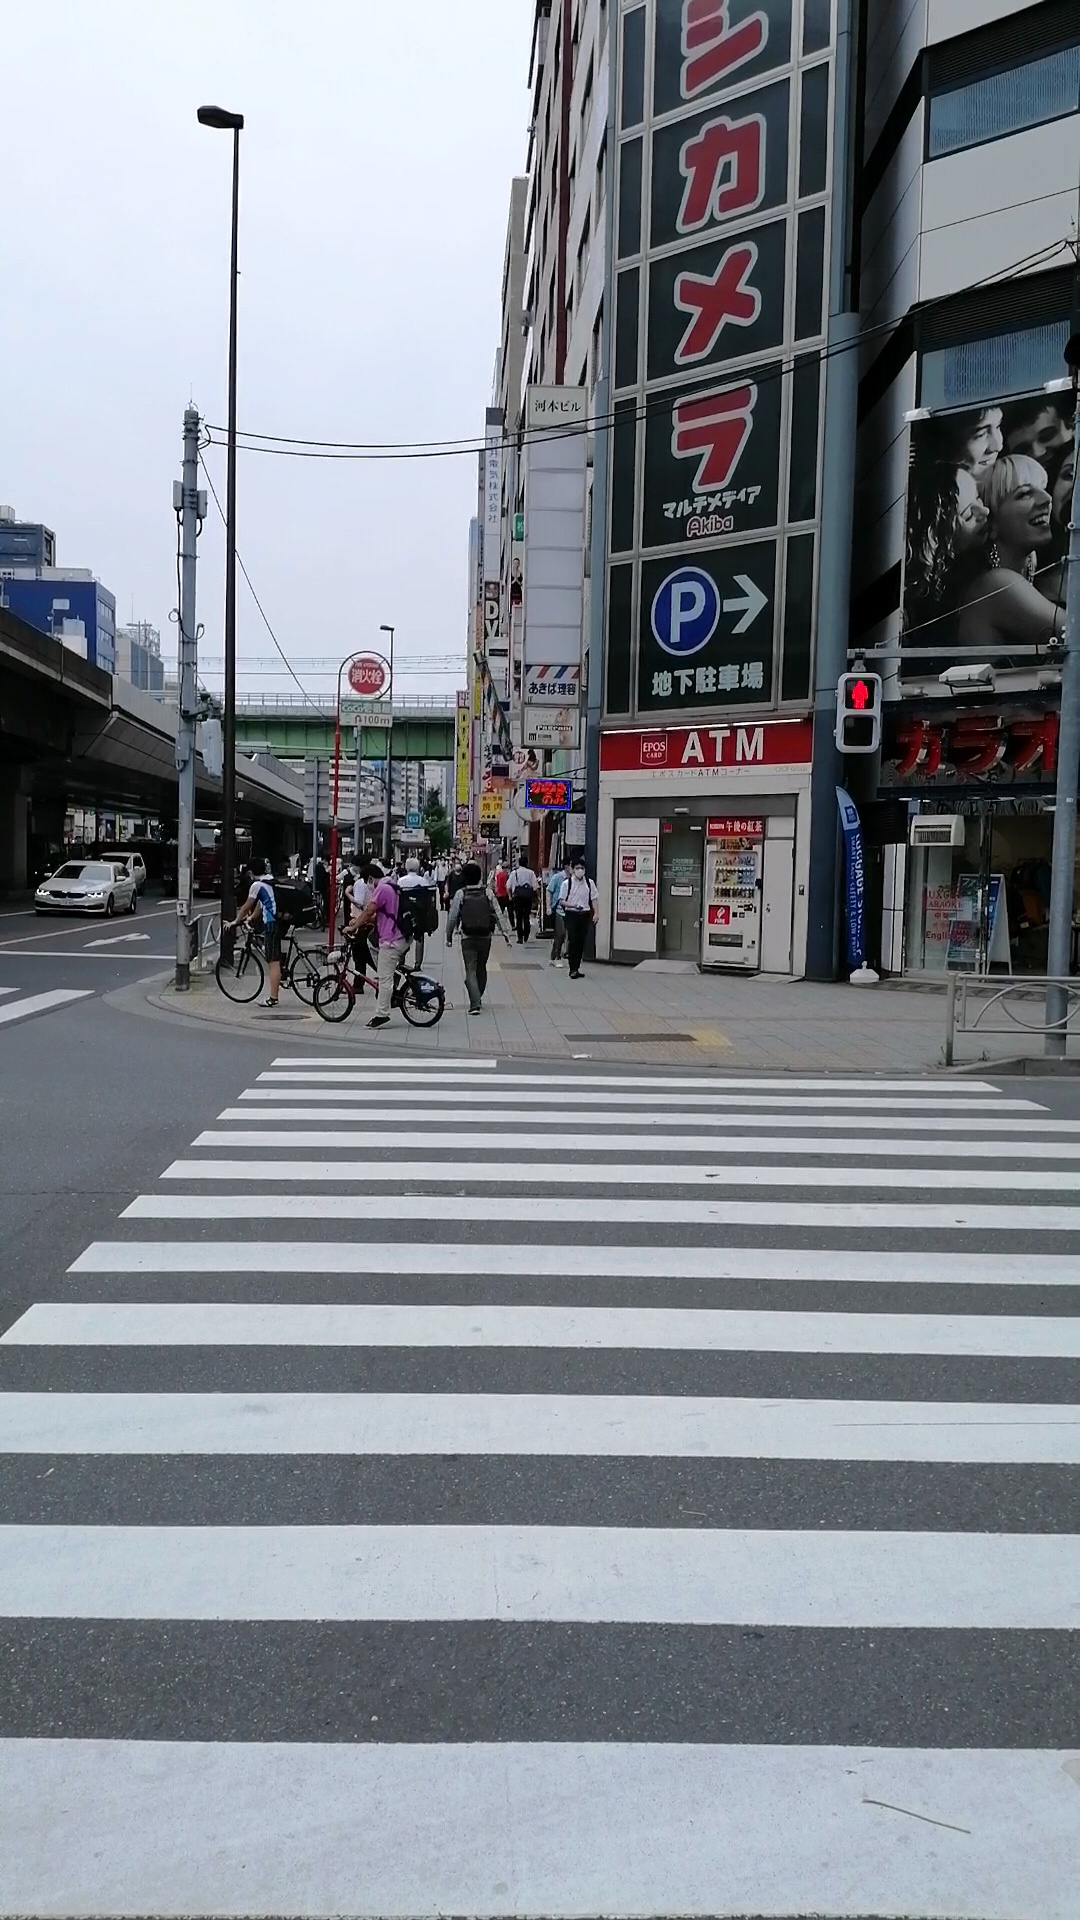red: (836, 673, 880, 753)
